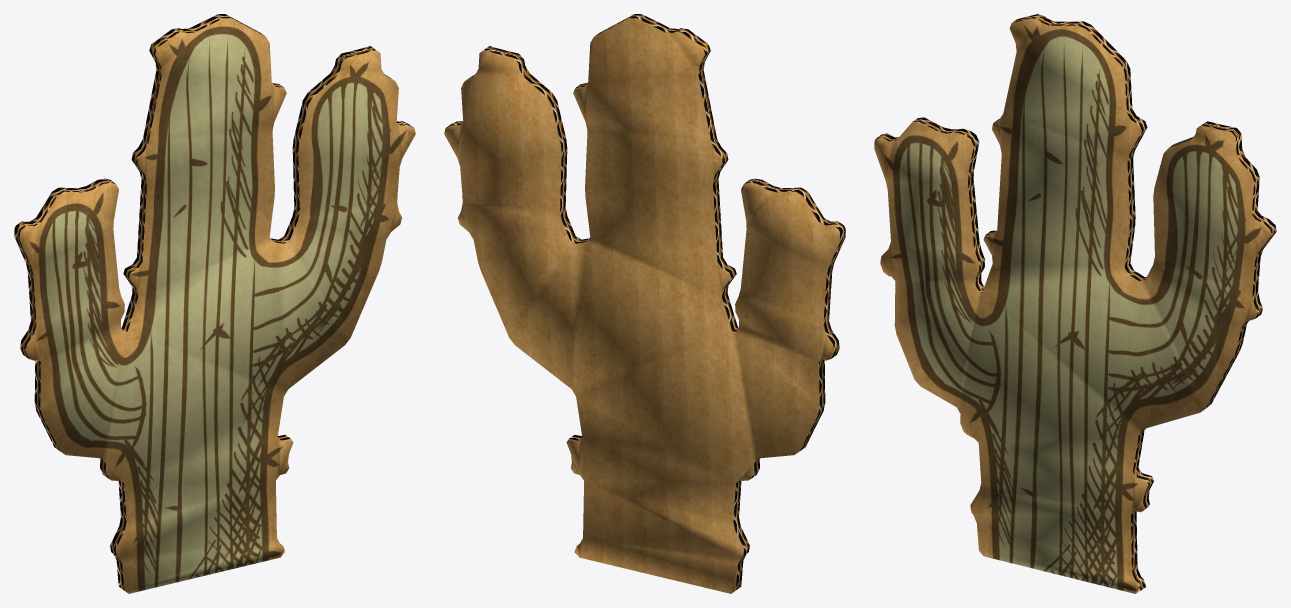
File: AST_GRAPH_Cactus_01_GJ.fbx
3 renders of one model, left to right at view 1: azimuth 30°, elevation 25°; view 2: azimuth 150°, elevation 25°; view 3: azimuth 330°, elevation 25°, orthographic.
Visible parts, largest first — view 1: cactus.001; view 2: cactus.001; view 3: cactus.001.
Part boxes in pixels (bbox=[...]): cactus.001: bbox=[14, 14, 415, 593]; cactus.001: bbox=[444, 14, 845, 593]; cactus.001: bbox=[874, 14, 1276, 593].
Size of the model in its own units: 48.82 by 65.18 by 1.2.
